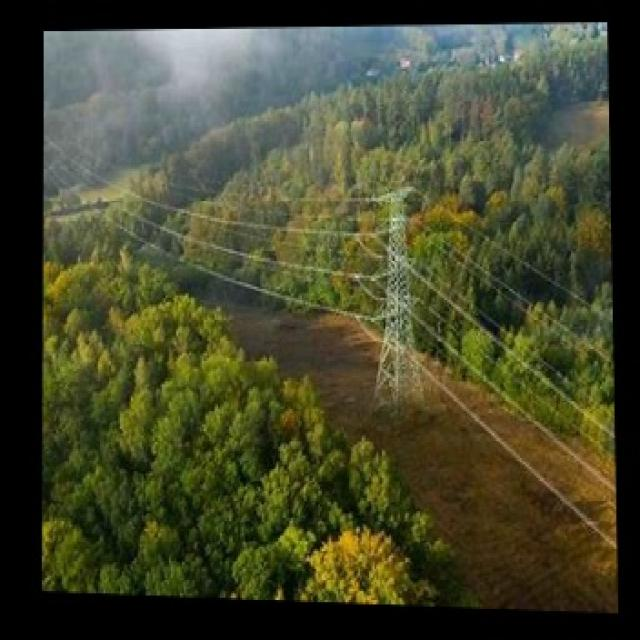utility poles: (353, 166, 444, 417)
